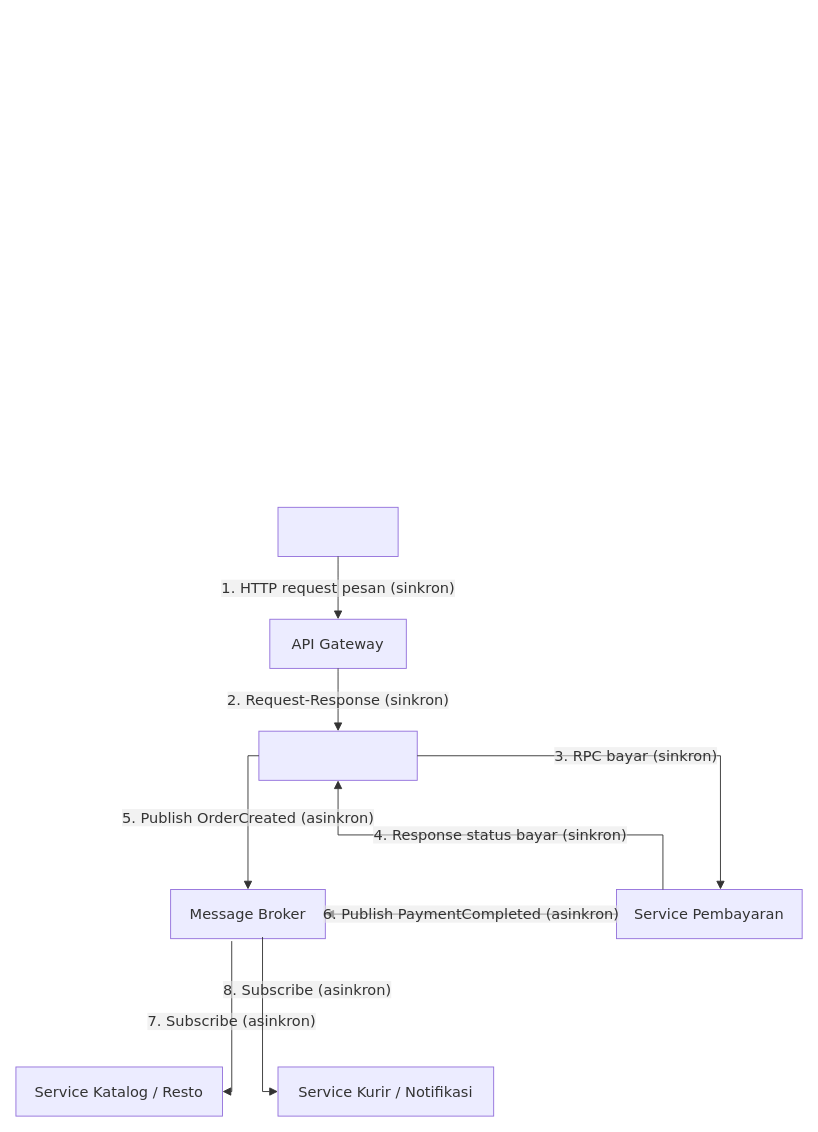
Some shapes in this 818 by 1132 pixel diagram are drawn without their labels. The shapes that lost their labels are listed below. From the top down, each one's centre as x and y in pixels, then its label:
(337,531): Pelanggan
(337,755): Service Pesanan
